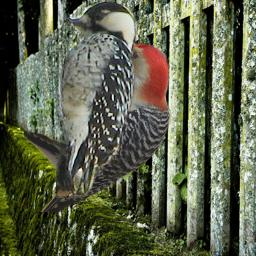Woodpecker: (24, 28, 177, 212), (56, 0, 137, 198)
